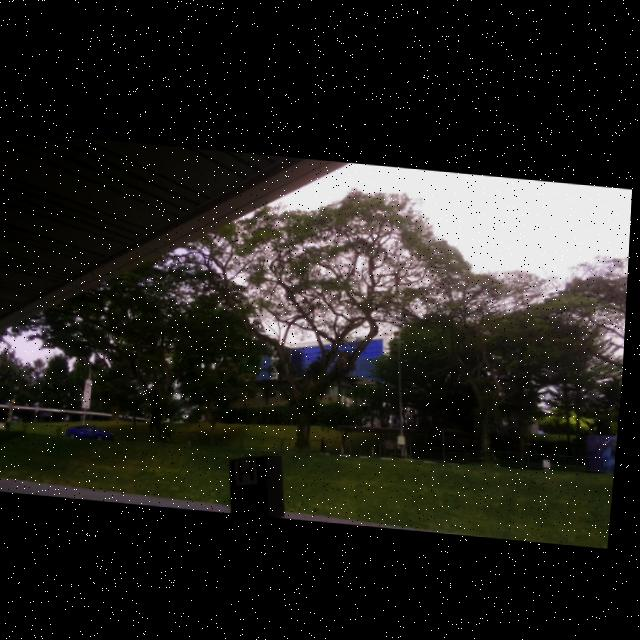H: (243, 457, 258, 479)
